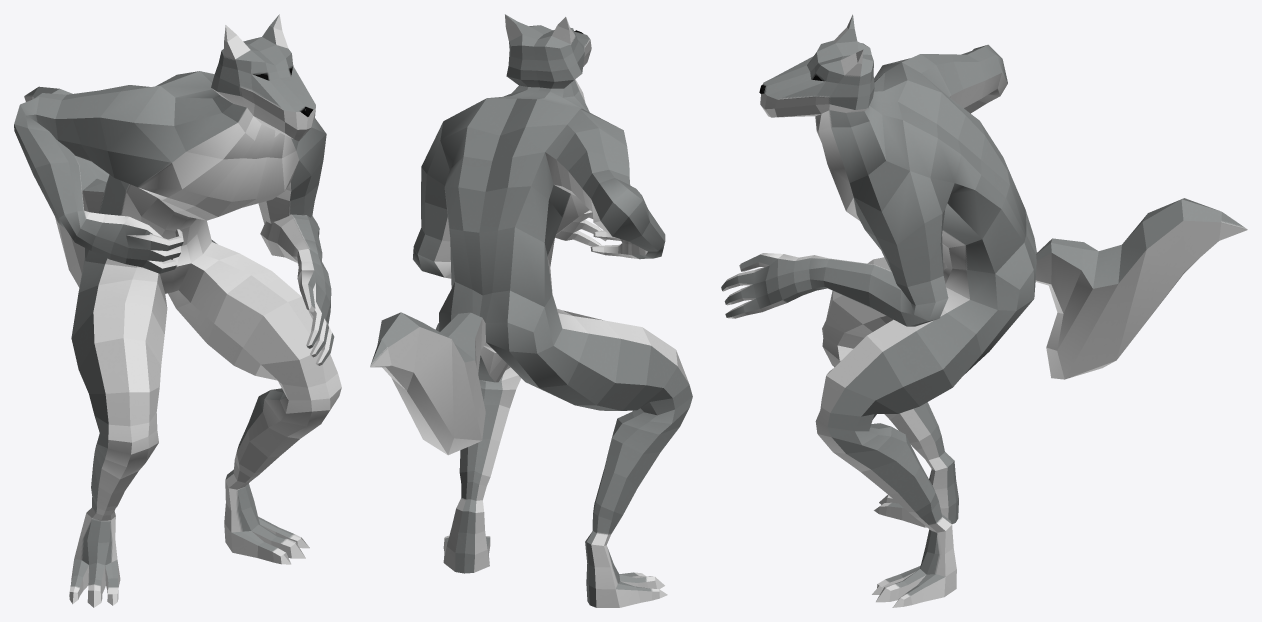
The model's file is WolfIdle_(35).obj.
3 renders of one model, left to right at view 1: azimuth 30°, elevation 25°; view 2: azimuth 150°, elevation 25°; view 3: azimuth 270°, elevation 25°, orthographic. The views are drawn at different scales.
Parts seen in each view (by area): view 1: Box001; view 2: Box001; view 3: Box001.
Boxes of the visible parts, <box> form: Box001: <box>14,14,341,607</box>; Box001: <box>370,14,692,607</box>; Box001: <box>721,14,1247,607</box>.
Size of the model in its own units: 66.04 by 132 by 116.
